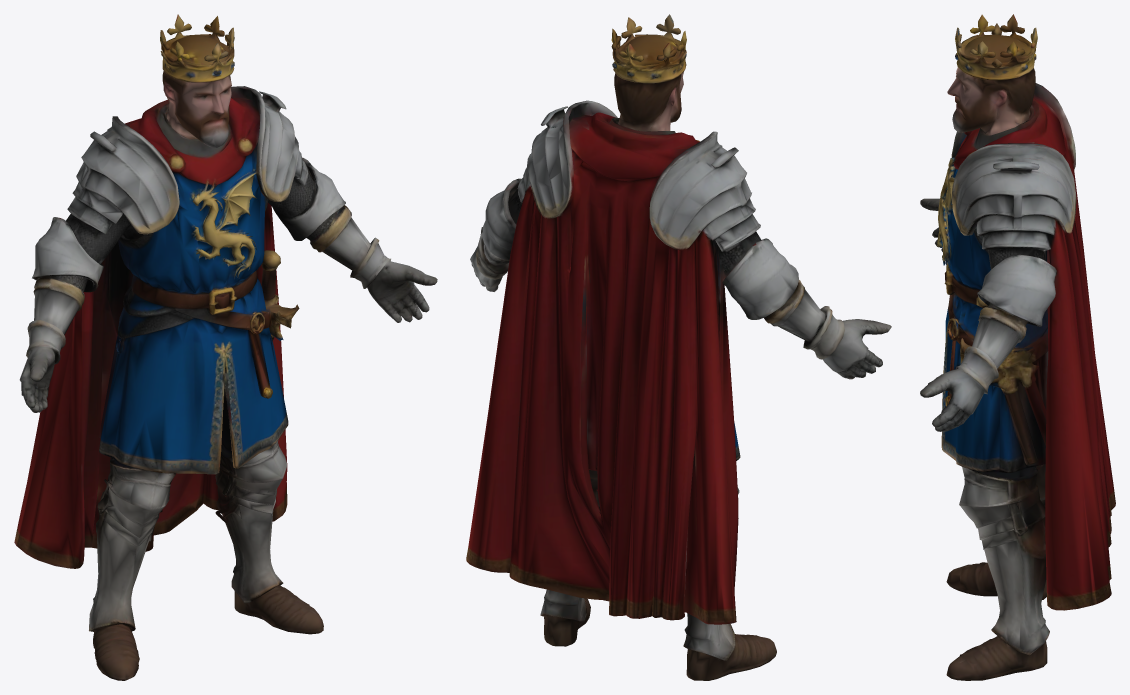
The model's file is hum_h1.glb.
3 renders of one model, left to right at view 1: azimuth 30°, elevation 25°; view 2: azimuth 150°, elevation 25°; view 3: azimuth 270°, elevation 25°, orthographic. The views are drawn at different scales.
Visible parts, largest first — view 1: node_0; view 2: node_0; view 3: node_0.
Boxes of the visible parts, x1,y1,x2,y2 form: node_0: (14,14,437,680); node_0: (466,14,891,680); node_0: (920,14,1115,680).
Size of the model in its own units: 0.7744 by 1.11 by 0.3281.
1 material, 1 textured.
